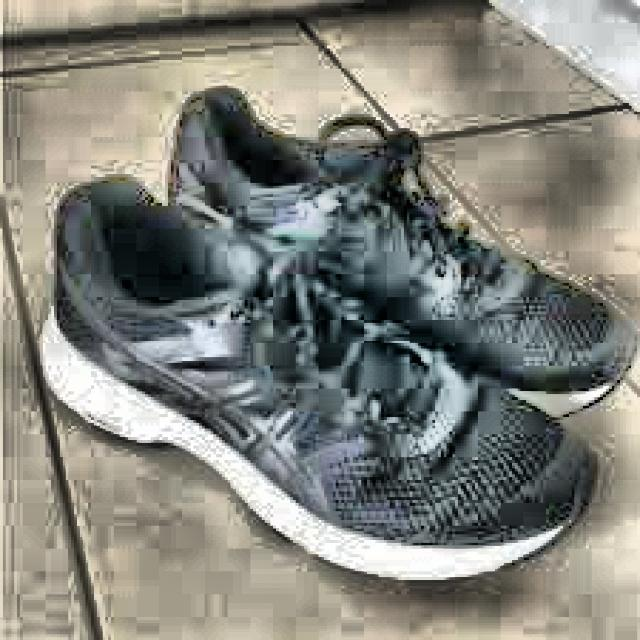shoes: (21, 77, 638, 589)
